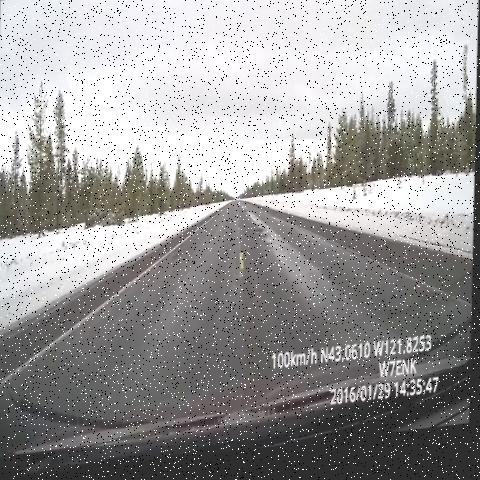pothole: (251, 224, 279, 267), (167, 245, 188, 275)
